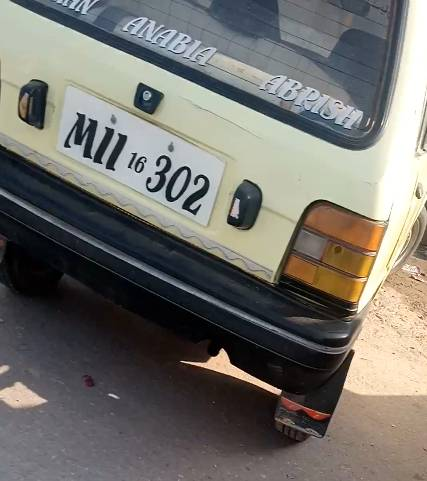number_plate: (54, 82, 229, 230)
